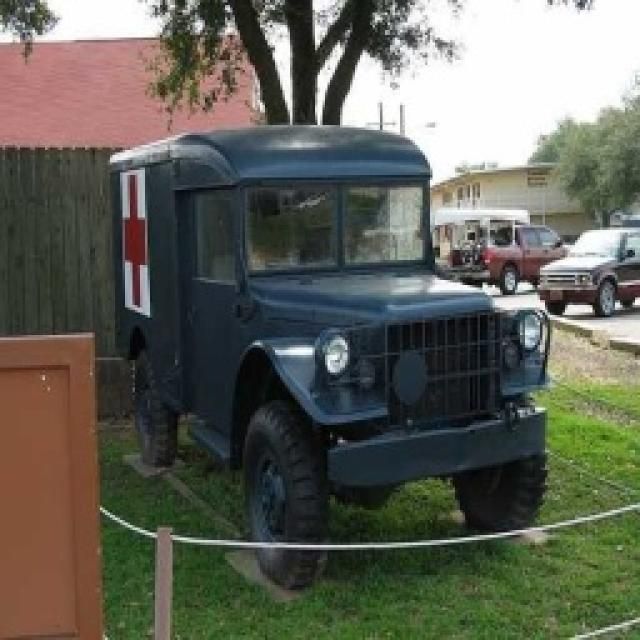ambulance: (112, 0, 549, 612), (535, 210, 640, 318)
